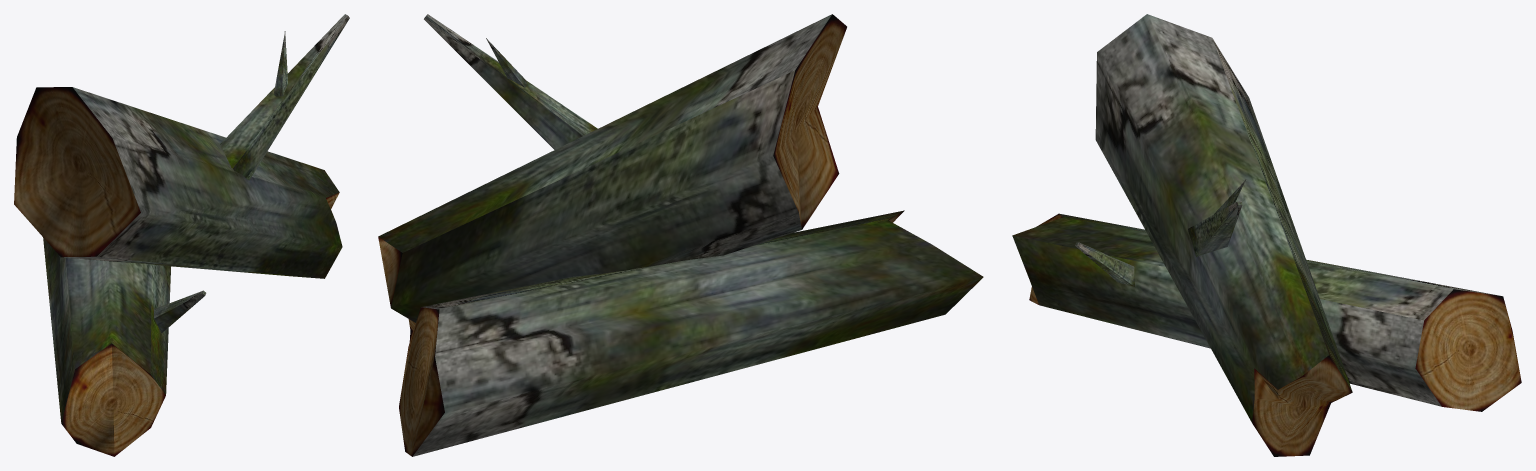
File: pir_m_prp_dvj_logGroup_a.fbx
3 renders of one model, left to right at view 1: azimuth 30°, elevation 25°; view 2: azimuth 150°, elevation 25°; view 3: azimuth 270°, elevation 25°, orthographic. The views are drawn at different scales.
Parts seen in each view (by area): view 1: polySurface3, polycombine2; view 2: polySurface3, polycombine2; view 3: polySurface3, polycombine2.
Boxes of the visible parts, x1,y1,x2,y2 form: polySurface3: [14, 14, 349, 278]; polycombine2: [43, 237, 206, 456]; polySurface3: [378, 14, 846, 341]; polycombine2: [399, 210, 983, 456]; polySurface3: [1095, 14, 1352, 456]; polycombine2: [1012, 213, 1521, 411].
Bounding box in the file's own units: 648 × 490 × 745.
1 material, 1 textured.
